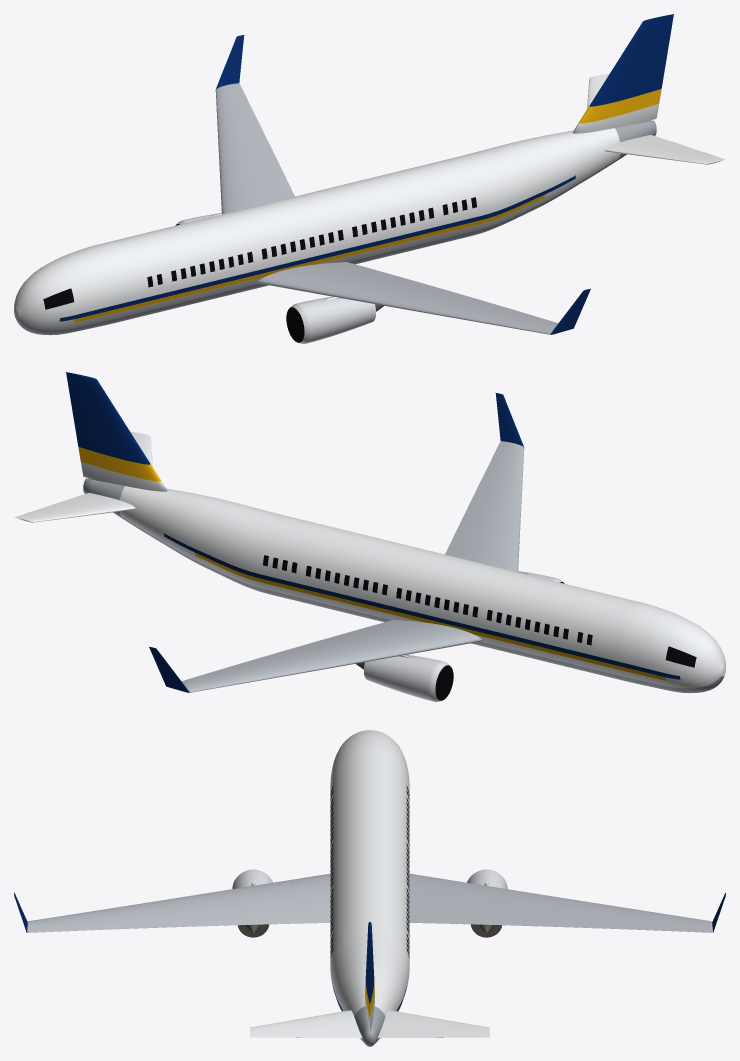
The model's file is airliner_a320.light.glb.
The picture shows the model from 3 angles, top to bottom: view 1: azimuth 30°, elevation 25°; view 2: azimuth 150°, elevation 25°; view 3: azimuth 270°, elevation 25°; orthographic projection. The views are drawn at different scales.
Parts seen in each view (by area): view 1: fuselage__paint, wing_left, wing_right, vtail_livery__livery, fuselage__belly, nacelle_l_nacelle__nacelle, fuselage__livery, fuselage__window, fuselage__livery2, htail_left, vtail_livery__livery2, vtail_livery__paint (+2 smaller); view 2: fuselage__paint, wing_right, wing_left, vtail_livery__livery, fuselage__belly, nacelle_r_nacelle__nacelle, fuselage__livery, fuselage__window, fuselage__livery2, htail_right, vtail_livery__livery2, vtail_livery__paint (+2 smaller); view 3: fuselage__paint, wing_right, wing_left, htail_right, htail_left, fuselage__window, fuselage__belly, nacelle_r_nacelle__nacelle, nacelle_l_nacelle__nacelle, vtail_livery__livery.
Boxes of the visible parts, left/top/right/bottom form: fuselage__paint: left=14, top=128, right=620, bottom=330; wing_left: left=257, top=262, right=560, bottom=334; wing_right: left=215, top=83, right=294, bottom=214; vtail_livery__livery: left=589, top=14, right=673, bottom=106; fuselage__belly: left=15, top=120, right=656, bottom=335; nacelle_l_nacelle__nacelle: left=290, top=296, right=375, bottom=343; fuselage__livery: left=59, top=175, right=575, bottom=321; fuselage__window: left=43, top=197, right=476, bottom=309; fuselage__livery2: left=73, top=194, right=544, bottom=322; htail_left: left=604, top=134, right=725, bottom=164; vtail_livery__livery2: left=579, top=89, right=661, bottom=123; vtail_livery__paint: left=572, top=104, right=658, bottom=133; fuselage__paint: left=119, top=486, right=725, bottom=688; wing_right: left=179, top=620, right=482, bottom=692; wing_left: left=445, top=441, right=524, bottom=572; vtail_livery__livery: left=66, top=372, right=150, bottom=464; fuselage__belly: left=83, top=478, right=724, bottom=693; nacelle_r_nacelle__nacelle: left=364, top=654, right=449, bottom=701; fuselage__livery: left=164, top=533, right=680, bottom=679; fuselage__window: left=263, top=555, right=696, bottom=667; fuselage__livery2: left=195, top=552, right=666, bottom=680; htail_right: left=14, top=492, right=135, bottom=522; vtail_livery__livery2: left=78, top=447, right=160, bottom=481; vtail_livery__paint: left=81, top=462, right=167, bottom=491; fuselage__paint: left=330, top=730, right=409, bottom=1016; wing_right: left=409, top=873, right=712, bottom=932; wing_left: left=27, top=873, right=330, bottom=932; htail_right: left=377, top=1010, right=489, bottom=1038; htail_left: left=250, top=1010, right=362, bottom=1038; fuselage__window: left=330, top=785, right=409, bottom=957; fuselage__belly: left=354, top=1006, right=385, bottom=1046; nacelle_r_nacelle__nacelle: left=467, top=869, right=507, bottom=888; nacelle_l_nacelle__nacelle: left=232, top=869, right=272, bottom=888; vtail_livery__livery: left=365, top=922, right=374, bottom=1003.
Size of the model in its own units: 38.75 by 10.23 by 35.43.
